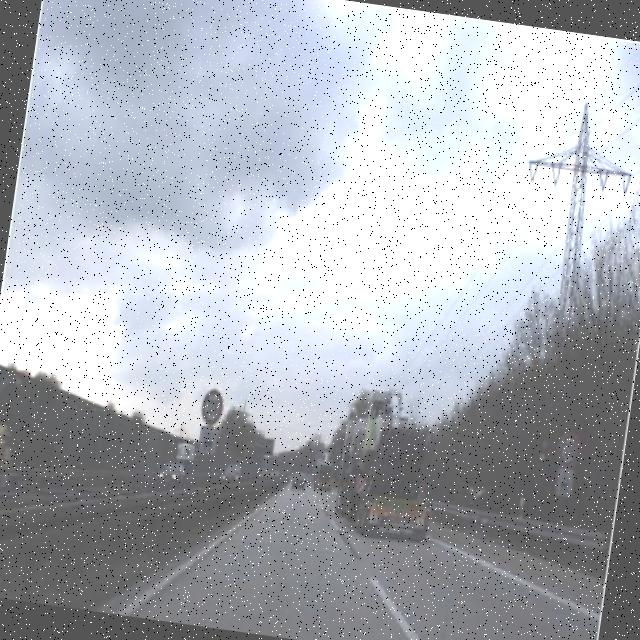Ograniczenie predkosci do 120: (554, 424, 586, 472), (198, 386, 228, 428)
